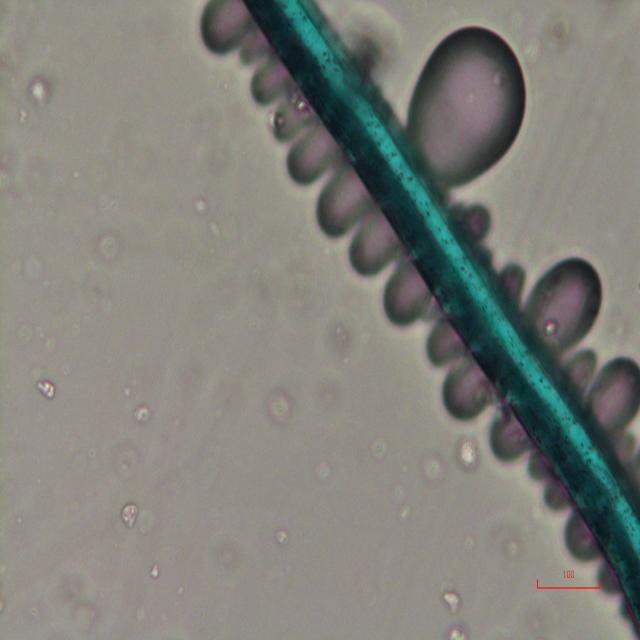Air bubble: (409, 20, 529, 178), (532, 249, 604, 362), (312, 165, 368, 245), (589, 356, 640, 428), (281, 127, 333, 193), (440, 362, 491, 424), (348, 214, 398, 277), (199, 0, 250, 55), (387, 266, 431, 329), (486, 414, 530, 464), (270, 95, 314, 142), (248, 59, 290, 104), (562, 519, 602, 565), (429, 319, 462, 366), (566, 341, 594, 394), (461, 202, 493, 245), (617, 428, 640, 481), (501, 259, 526, 304), (541, 480, 572, 512), (528, 451, 548, 486)
Background material: (340, 0, 409, 80), (0, 139, 70, 205), (48, 564, 101, 637), (314, 294, 364, 369), (189, 110, 229, 172), (0, 242, 52, 284), (192, 192, 224, 243), (215, 534, 248, 582), (454, 426, 484, 476), (547, 11, 580, 55), (498, 518, 530, 563), (416, 446, 450, 485), (263, 384, 293, 426), (299, 451, 332, 488), (118, 438, 144, 481), (114, 496, 142, 534), (95, 231, 126, 263), (26, 73, 52, 110), (436, 582, 462, 617), (391, 483, 411, 522), (33, 372, 58, 402), (132, 403, 154, 428), (441, 620, 468, 638), (374, 440, 390, 469), (145, 565, 163, 585), (273, 527, 289, 548), (16, 101, 30, 124), (465, 534, 477, 558)
Microfibre: (247, 2, 640, 628)
